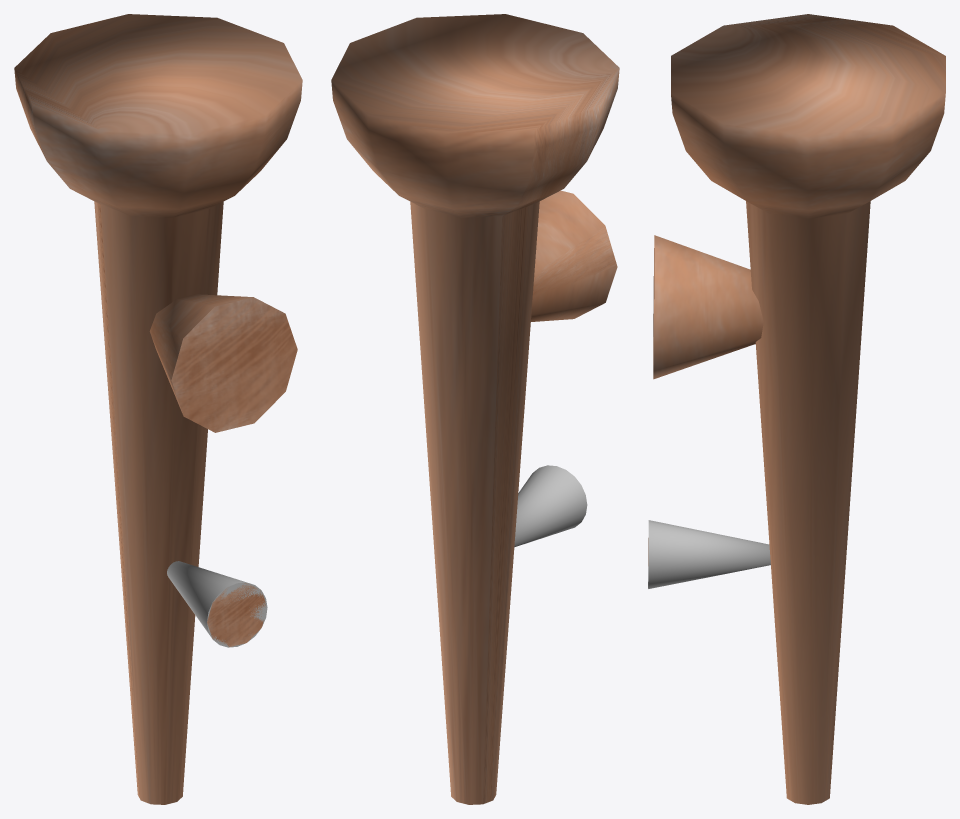
Rendered from torch.fbx.
3 renders of one model, left to right at view 1: azimuth 30°, elevation 25°; view 2: azimuth 150°, elevation 25°; view 3: azimuth 270°, elevation 25°, orthographic.
Parts seen in each view (by area): view 1: polySurface5, pCone2; view 2: polySurface5, pCone2; view 3: polySurface5, pCone2.
Part boxes in pixels (x1,y1,x2,y2): polySurface5: (14,14,302,804); pCone2: (167,561,267,647); polySurface5: (331,14,619,804); pCone2: (514,465,587,547); polySurface5: (648,14,945,804); pCone2: (648,520,770,588).
Size of the model in its own units: 2 by 5.5 by 2.06.
